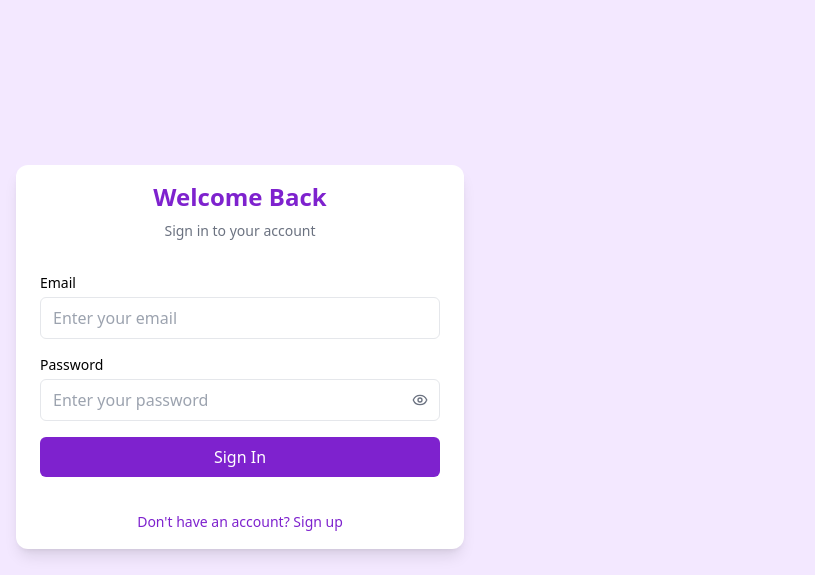
Test case: UserLoginForm.vue › shows validation error toast for invalid email
Step 1. Type "invalid-email" into the field with id "email" → (240, 318), box [40, 297, 440, 339]
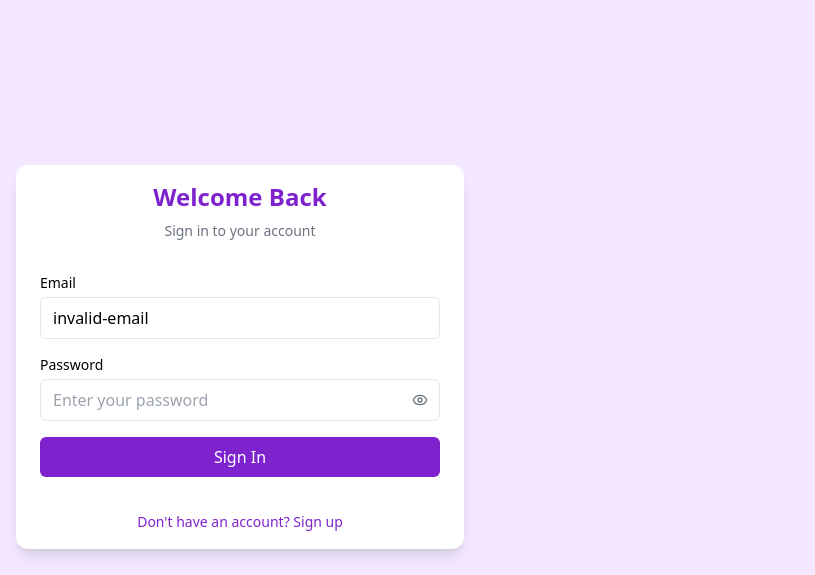
Step 2. Type "validPass" into the password field labelled "Password" → (240, 400), box [40, 379, 440, 421]
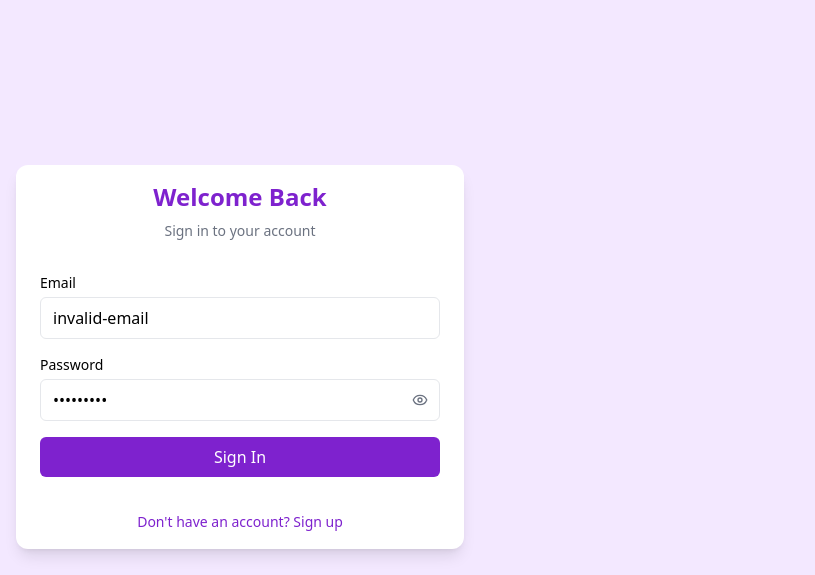
Step 3. Submit the form, box [16, 257, 464, 493]
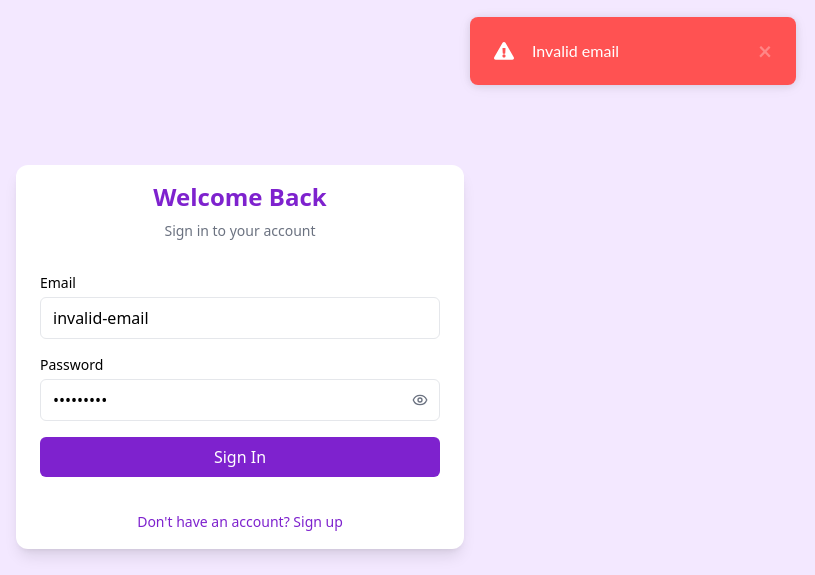
expect the text "Invalid email" is shown: met, box [532, 41, 619, 60]
